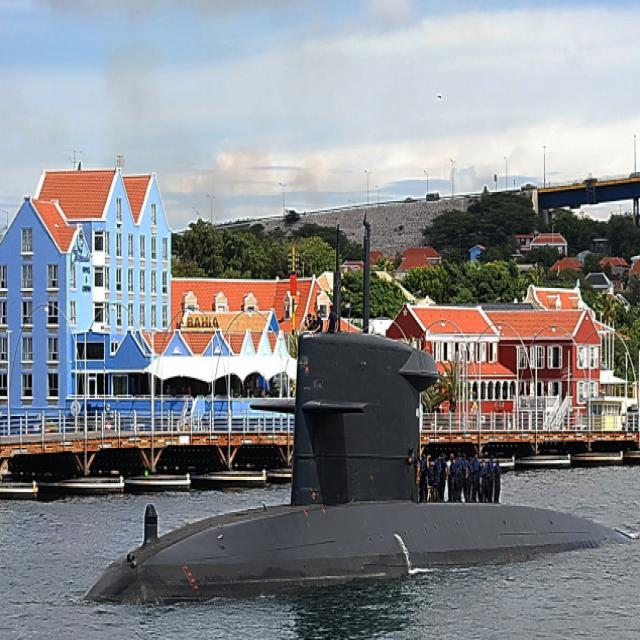submarine: (85, 210, 630, 606)
